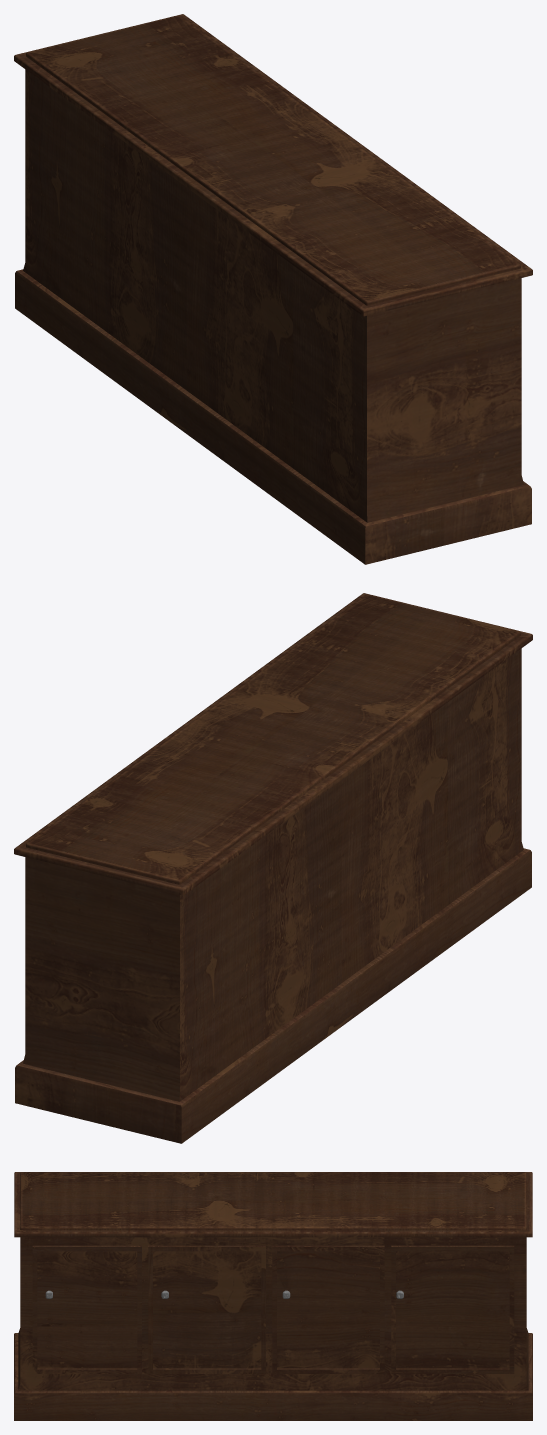
Rendered from dresser_-_commode__low_poly_-_game_ready.glb.
The picture shows the model from 3 angles, top to bottom: view 1: azimuth 30°, elevation 25°; view 2: azimuth 150°, elevation 25°; view 3: azimuth 270°, elevation 25°; orthographic projection. The views are drawn at different scales.
Visible parts, largest first — view 1: SM_Sifonyer_1_0; view 2: SM_Sifonyer_1_0; view 3: SM_Sifonyer_1_0.
Part boxes in pixels (box(x1,y1,x2,y2)): SM_Sifonyer_1_0: box(14, 14, 532, 564); SM_Sifonyer_1_0: box(14, 593, 532, 1143); SM_Sifonyer_1_0: box(14, 1172, 532, 1420).
Bounding box in the file's own units: 0.6291 × 0.9093 × 2.24.
1 material, 1 textured.
